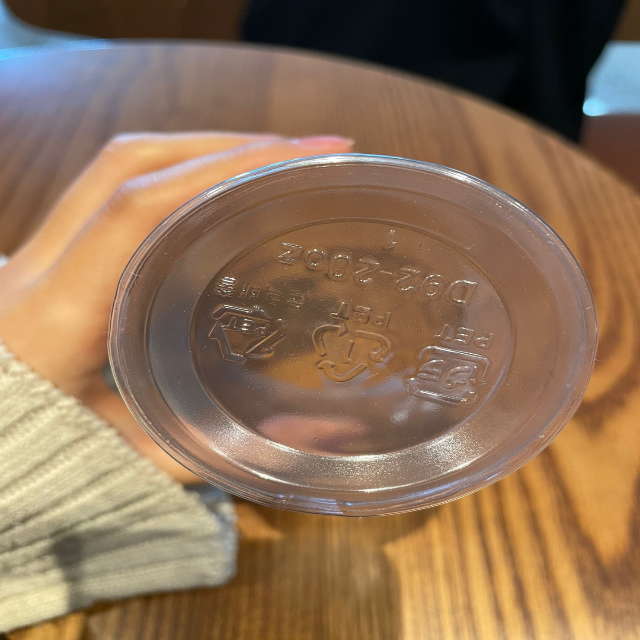pet: (200, 266, 309, 374), (400, 316, 502, 414), (304, 290, 397, 384)
